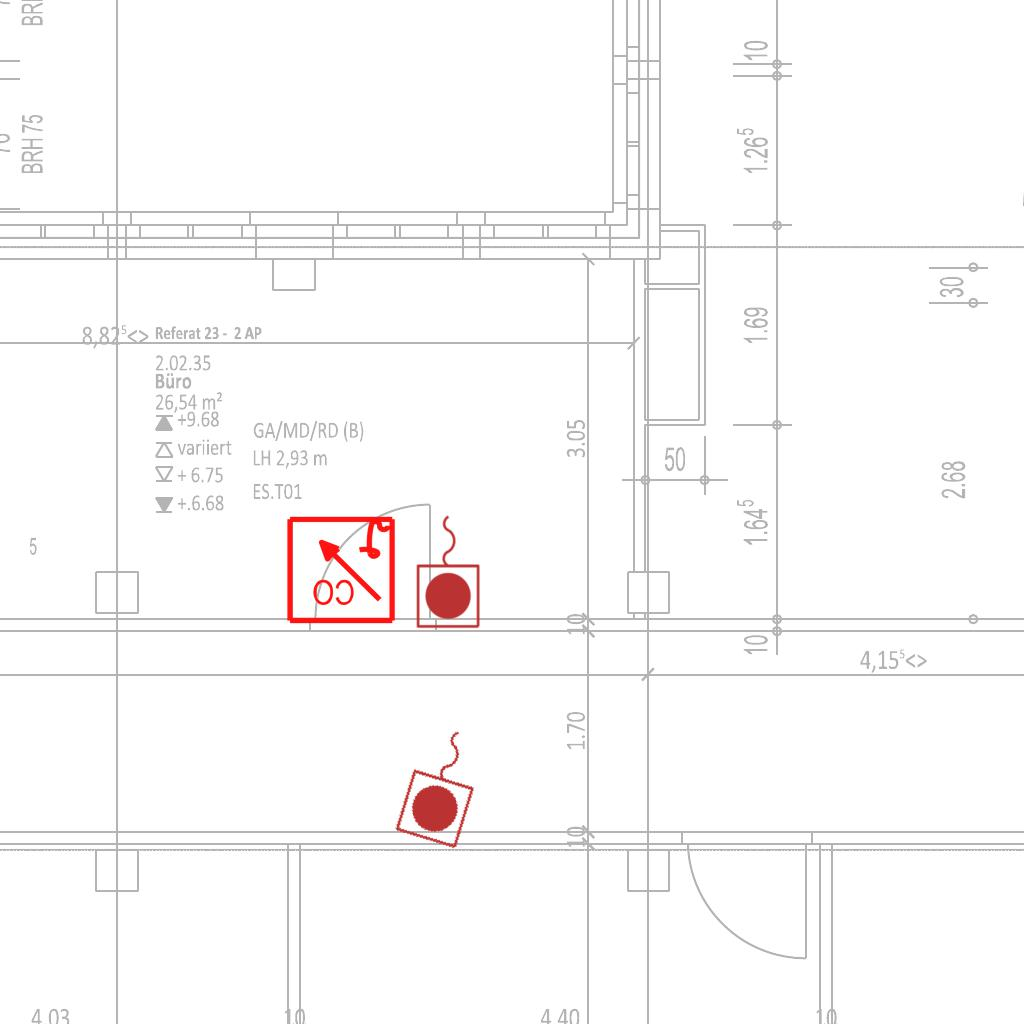ROA_Rauchmelder_optisch_mit_Signalgeber_(Sockelsirene): (284, 512, 397, 625)
Zugtaster: (390, 716, 496, 854), (413, 510, 485, 632)
